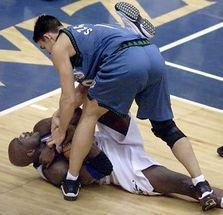Fall-Detected: (2, 99, 221, 204)
